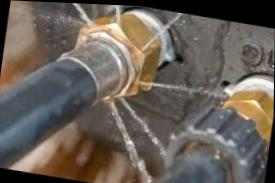leak: (8, 1, 230, 183)
